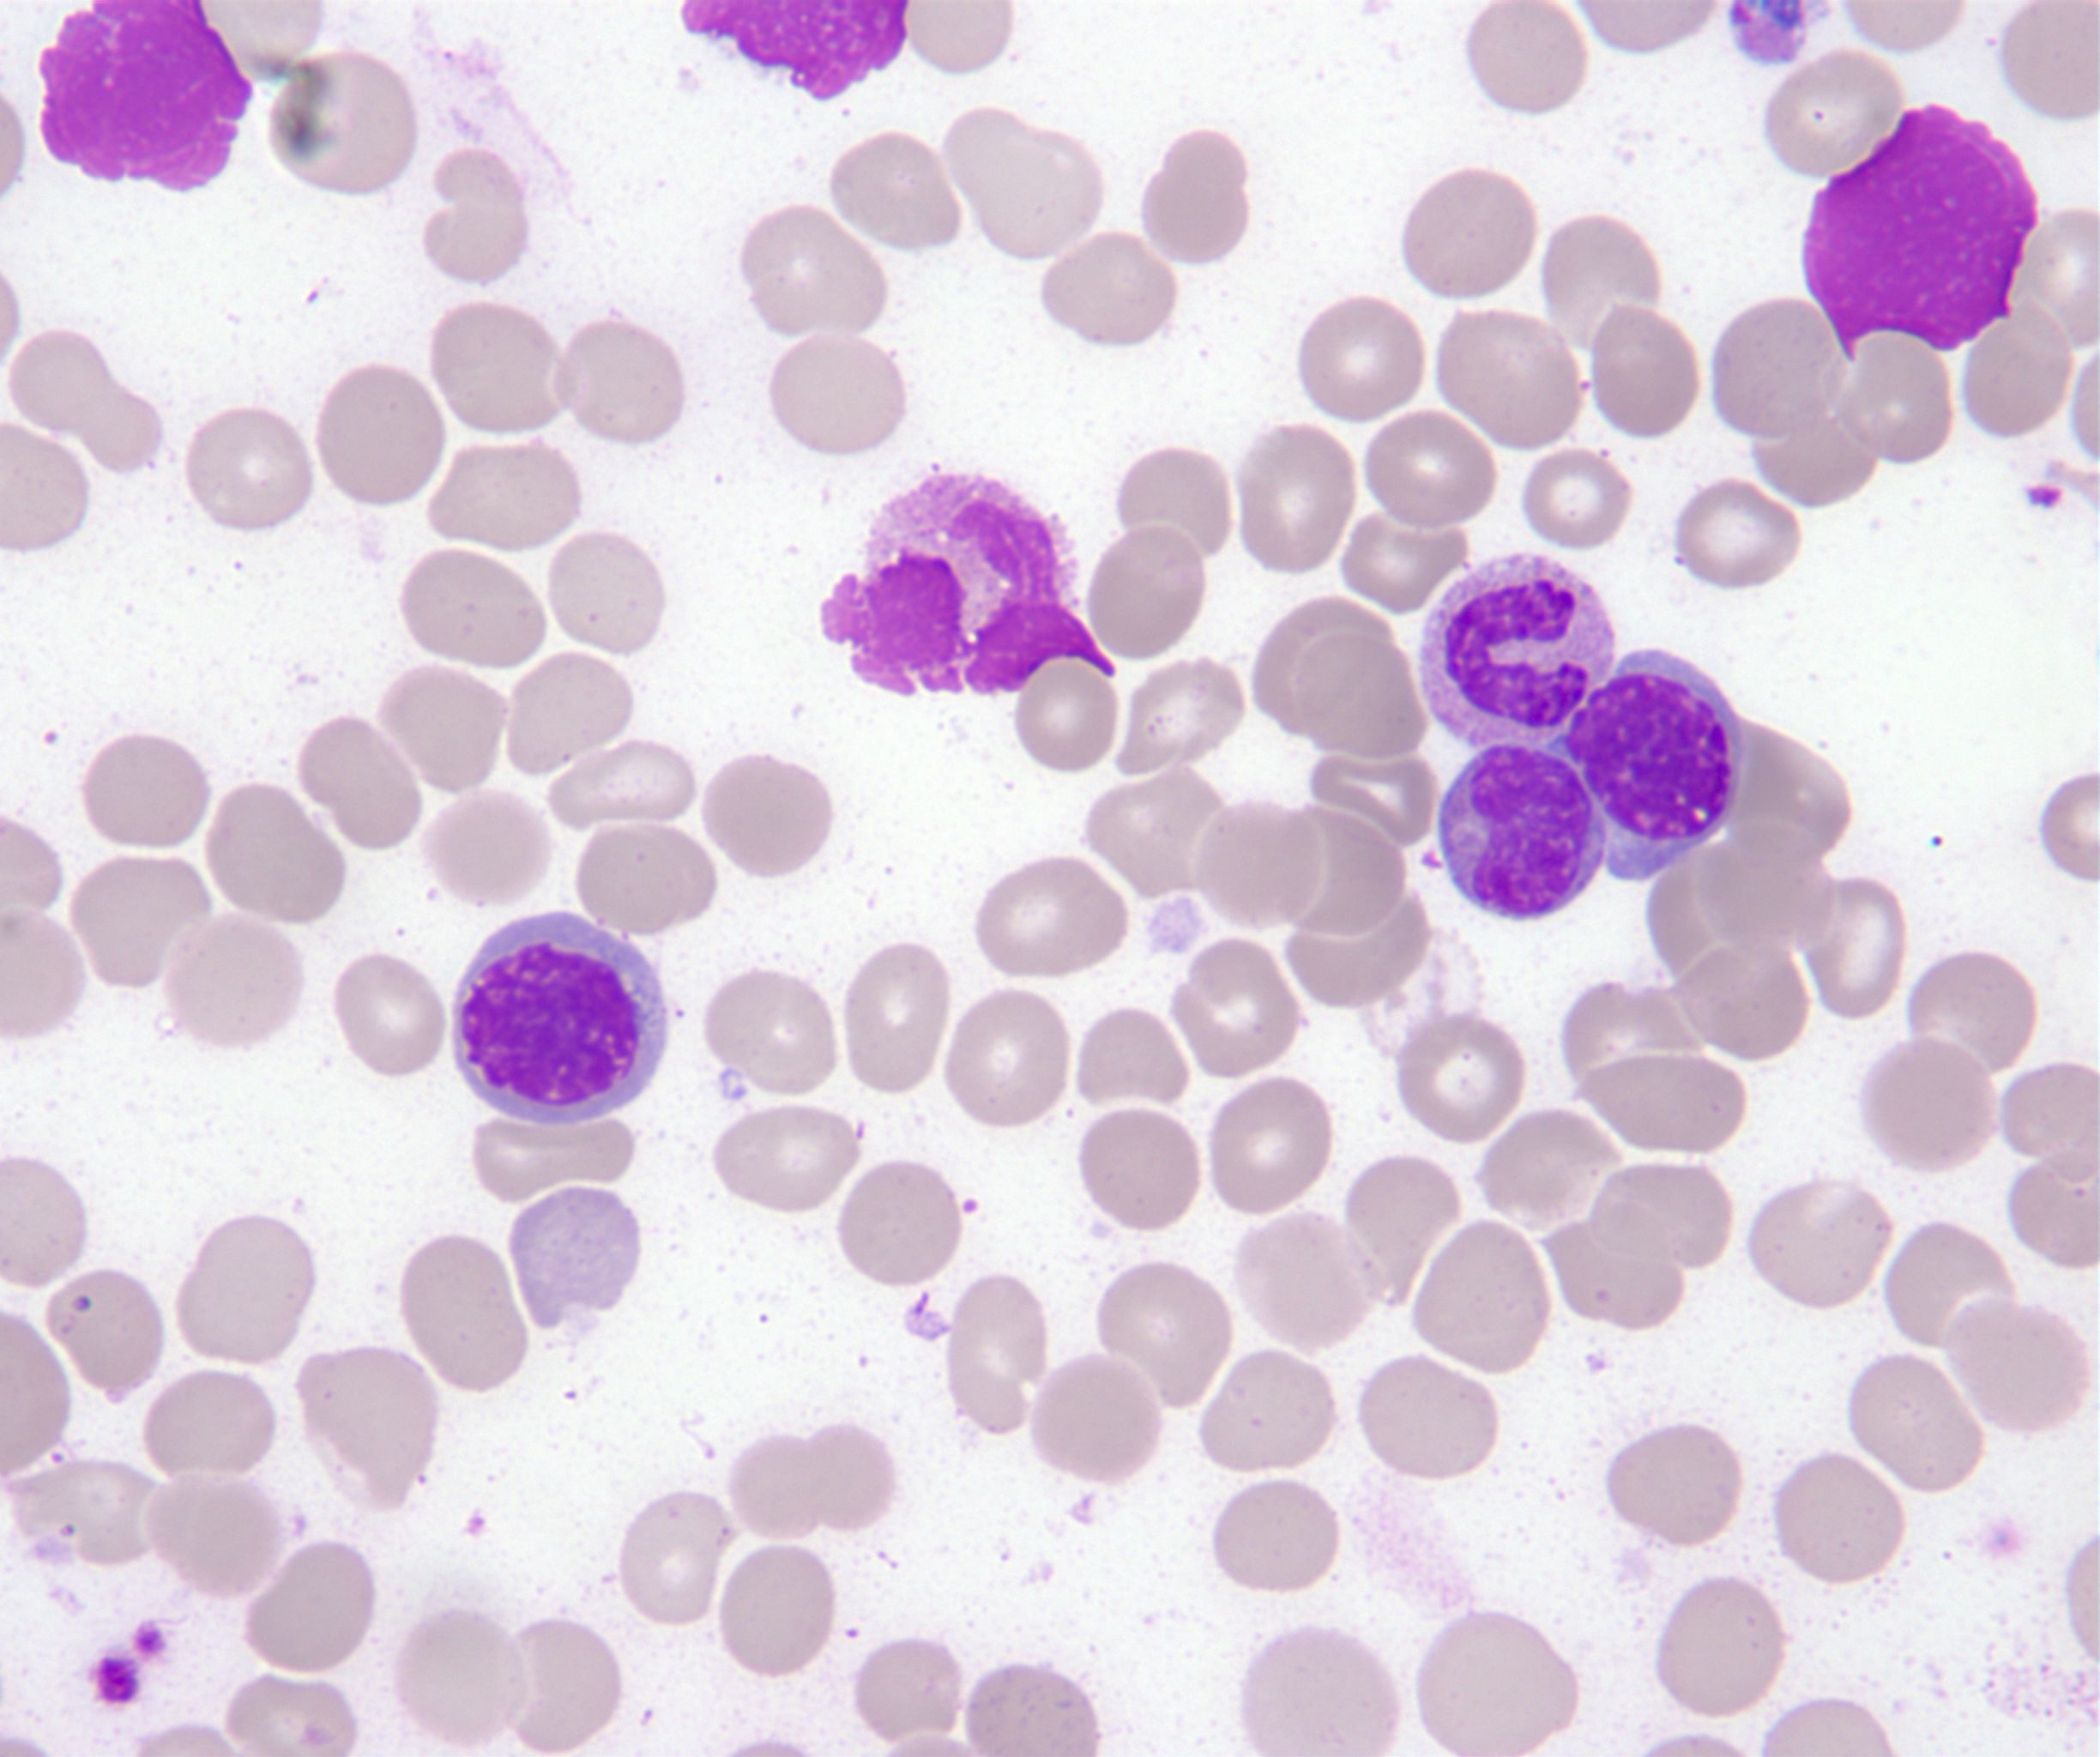23: (1542, 649, 1739, 879), (455, 913, 668, 1124)
42: (1441, 749, 1606, 920)
5: (1422, 557, 1613, 749)
x: (822, 473, 1115, 694), (1802, 108, 2035, 361), (38, 2, 251, 194), (680, 3, 909, 101)
